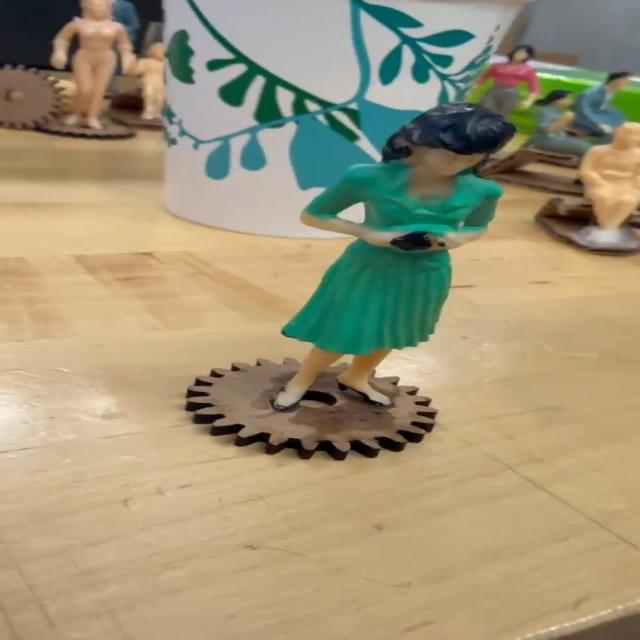Authorized: (274, 96, 496, 439)
